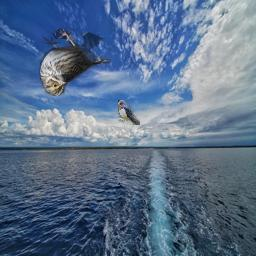Sparrow: (39, 28, 111, 96)
Swallow: (118, 100, 140, 125)
